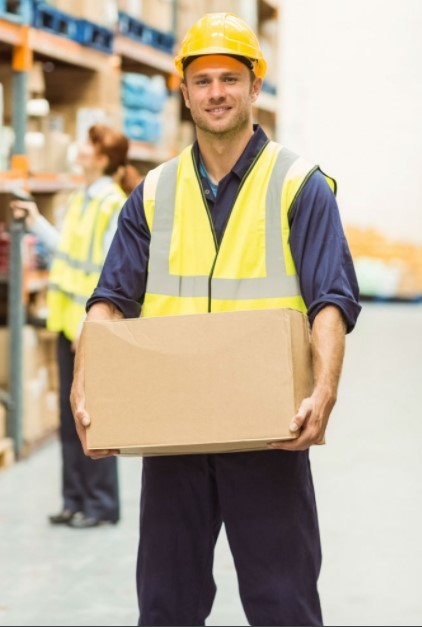stock: (84, 311, 309, 444)
worker: (139, 12, 307, 310)
